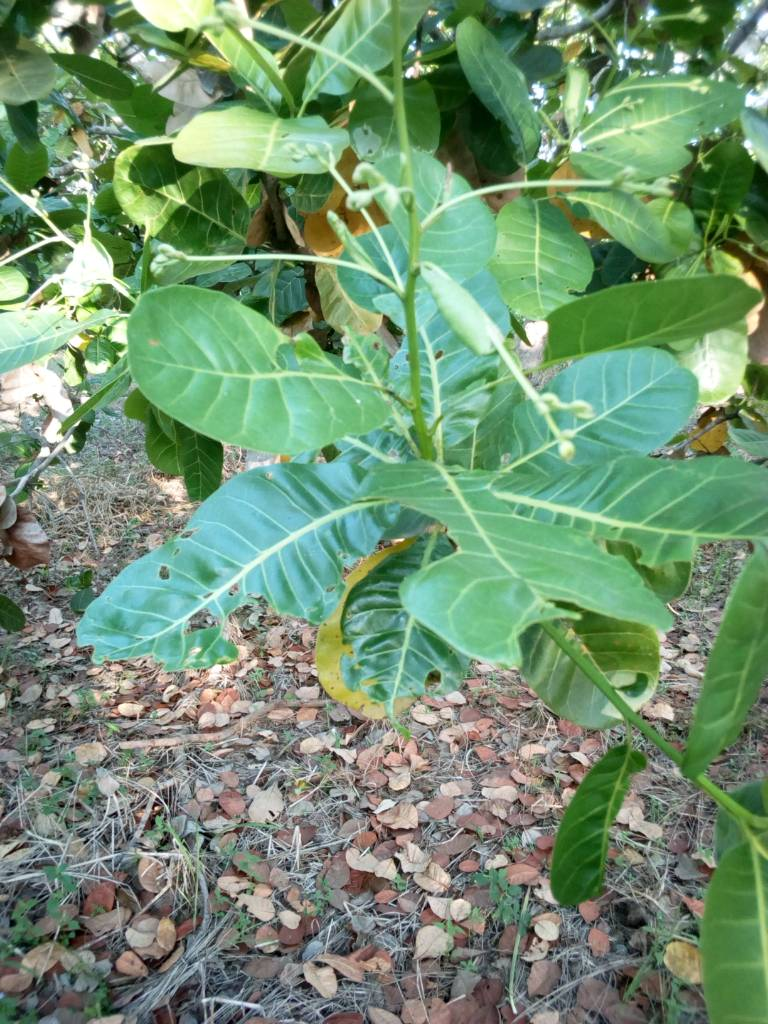Anoplocnemis curvipes: (377, 450, 666, 642), (74, 489, 346, 677)
